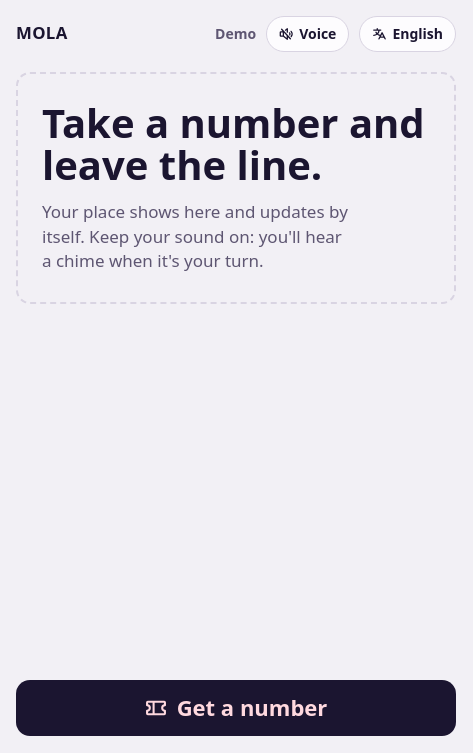
Scenario: PatronApp › recovers when API Gateway answers a join with its own error (a throttled Lambda)
The image size is (473, 753).
Click the button "Get a number". click: (236,708)
box: [16,680,456,736]
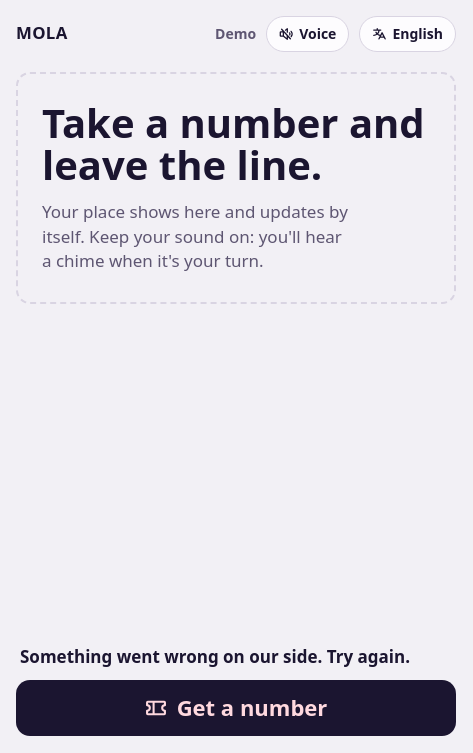
Expected: the text "Something went wrong on our side. Try again." is shown, [16,645,456,670]
